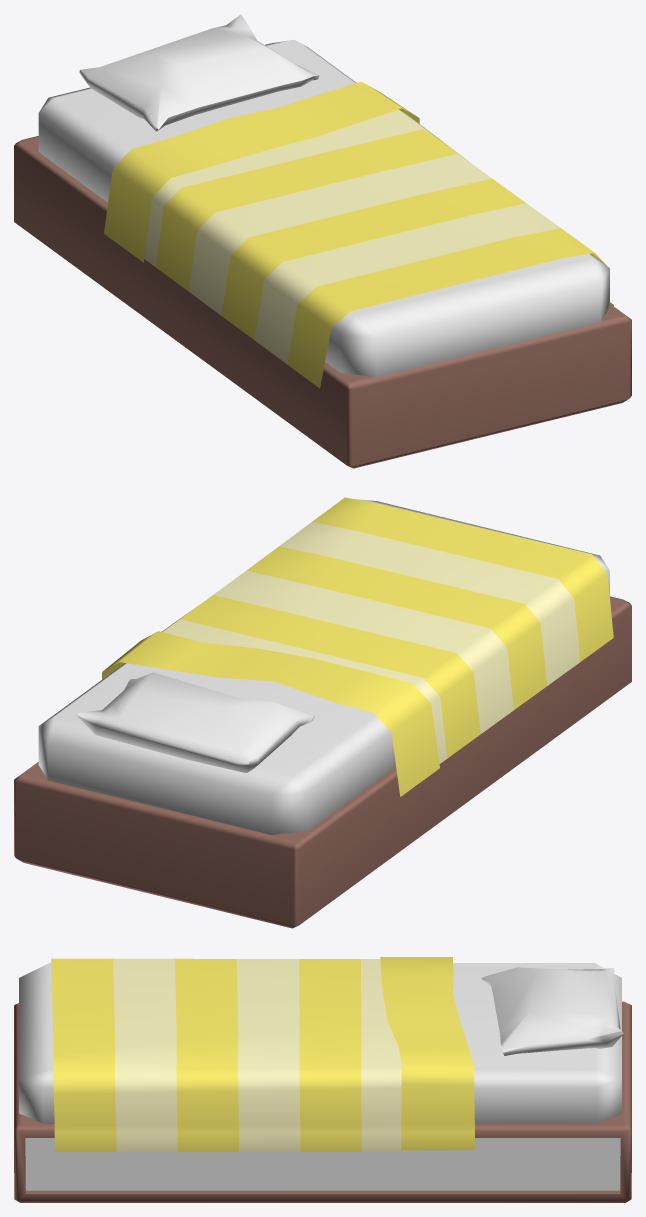
The model's file is bed.glb.
3 renders of one model, top to bottom at view 1: azimuth 30°, elevation 25°; view 2: azimuth 150°, elevation 25°; view 3: azimuth 270°, elevation 25°, orthographic. The views are drawn at different scales.
Visible parts, largest first — view 1: bed_001; view 2: bed_001; view 3: bed_001.
Boxes of the visible parts, x1,y1,x2,y2 form: bed_001: (14, 14, 631, 468); bed_001: (14, 497, 631, 928); bed_001: (14, 957, 631, 1202).
Size of the model in its own units: 1.12 by 0.6228 by 2.21.
1 material, 1 textured.
